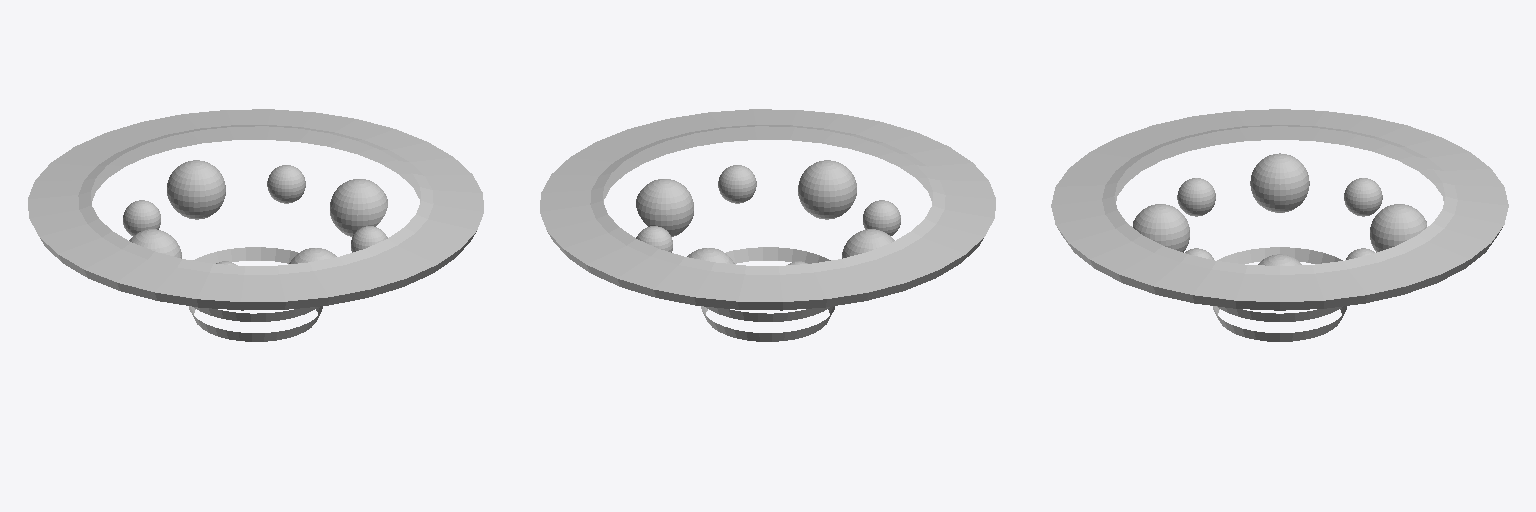
Rendered from bottom_red_part.obj.
3 views of the same model, side by side, from view 1: azimuth 30°, elevation 25°; view 2: azimuth 150°, elevation 25°; view 3: azimuth 270°, elevation 25° (orthographic).
Visible parts, largest first — view 1: bottom_part_red; view 2: bottom_part_red; view 3: bottom_part_red.
Part boxes in pixels (left/top/right/bottom): bottom_part_red: left=28, top=109, right=483, bottom=341; bottom_part_red: left=540, top=109, right=995, bottom=341; bottom_part_red: left=1051, top=109, right=1508, bottom=341.
Size of the model in its own units: 57.41 by 16.56 by 57.41.